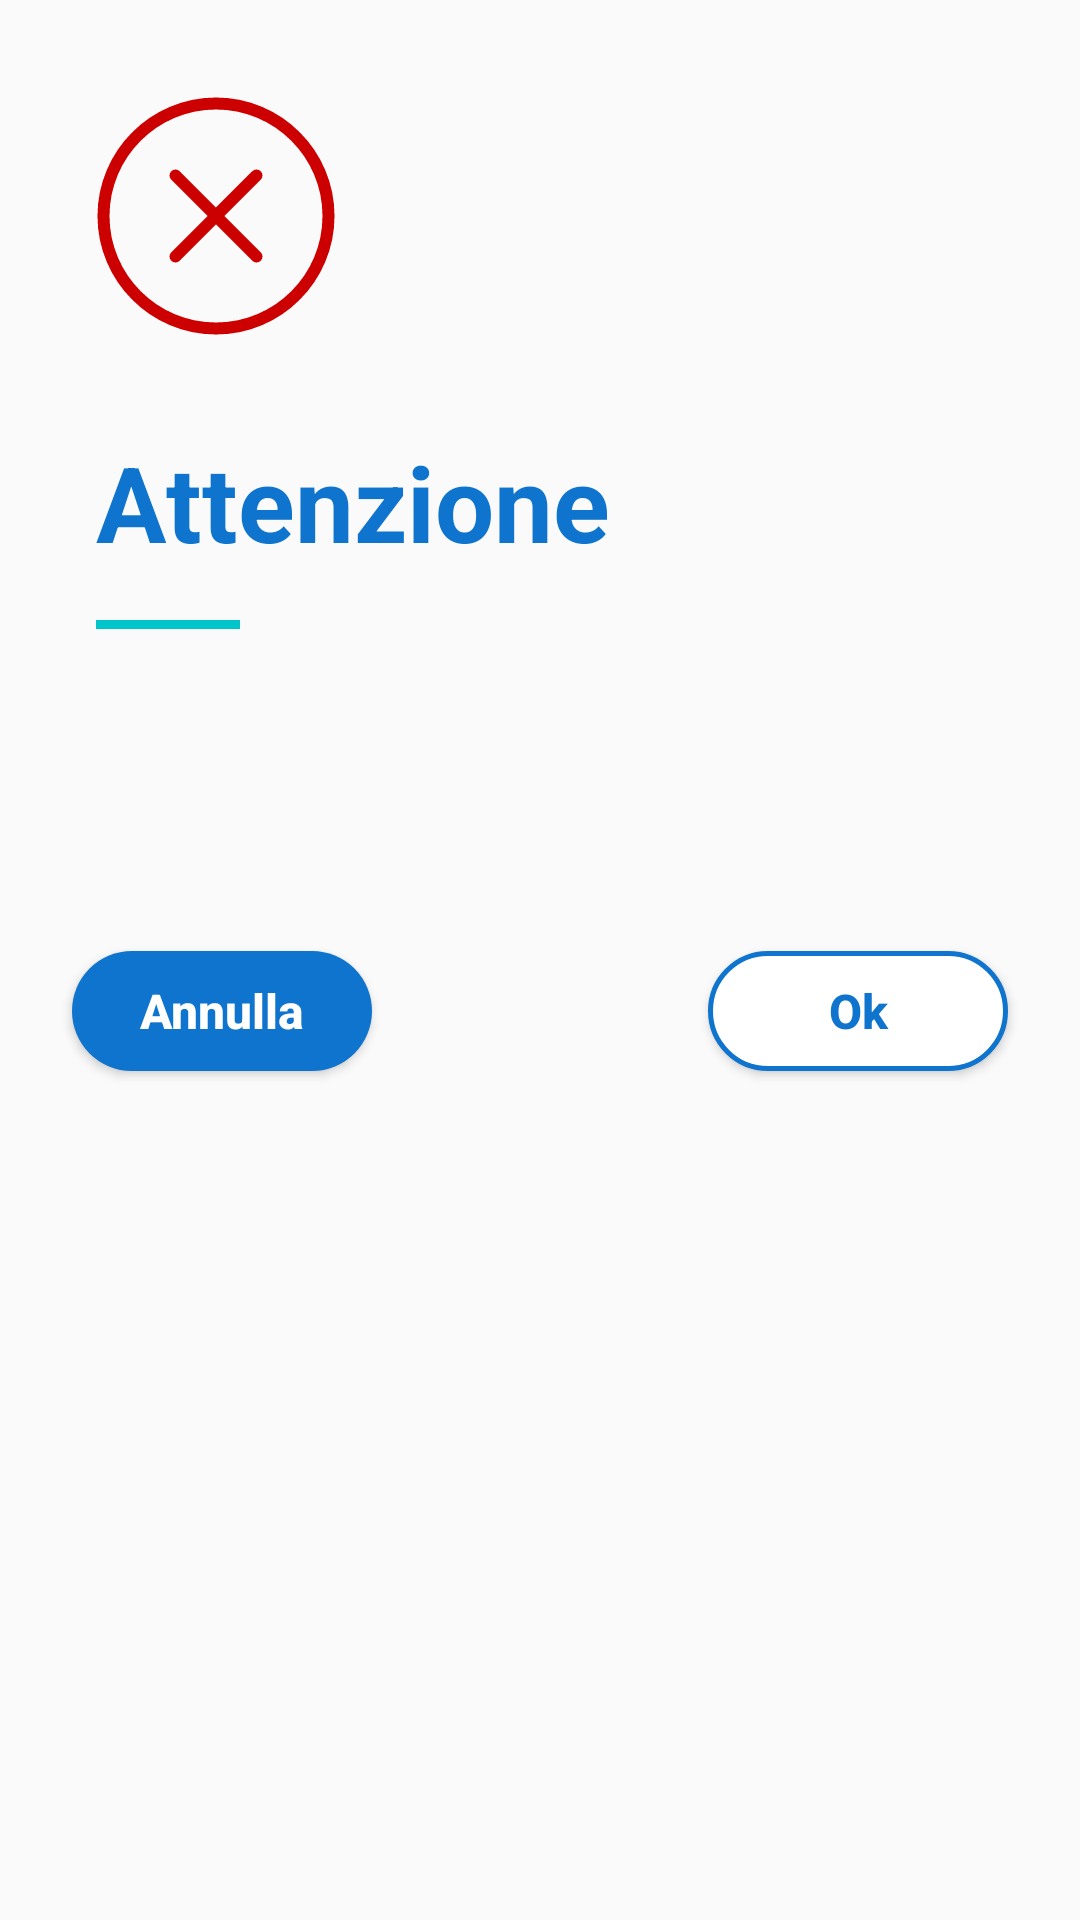

Screen size 1080*1920. Icon name, then its center in pixels as point (x, y):
alert icona ko: point (216, 216)
